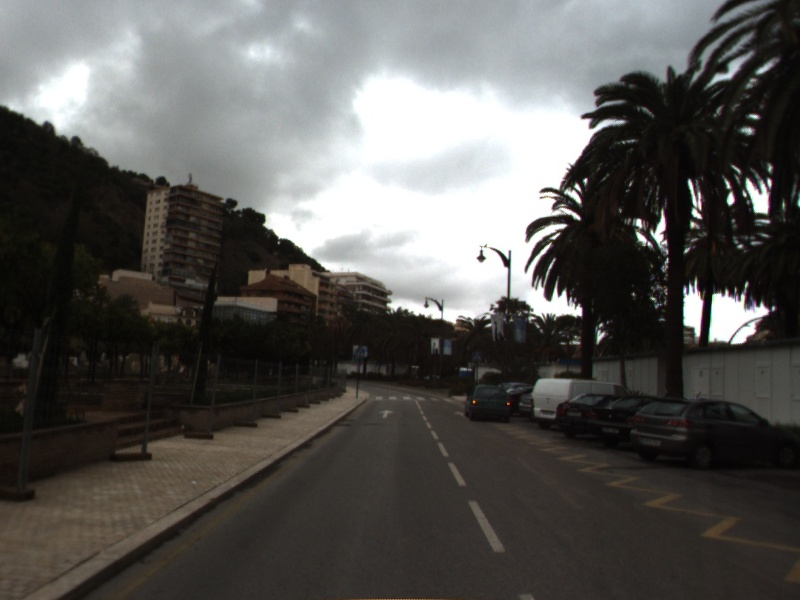STRAIGHT: (377, 407, 397, 420)
